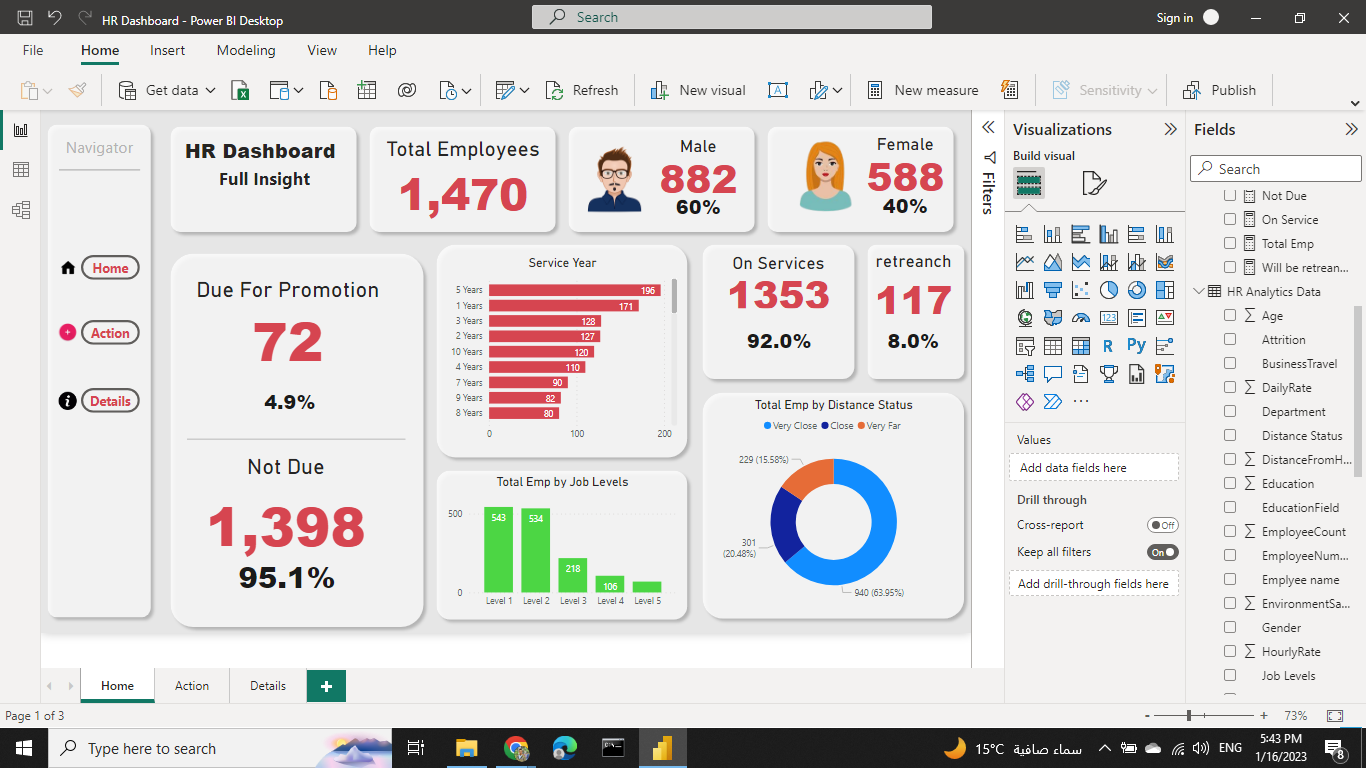

This screenshot's page, from the dashboard's own definition file:
{"tool":"powerbi","page":{"name":"Home","canvas":[1280,720],"ordinal":0},"visuals":[{"type":"shape","box":[169.7,13.4,273.8,162.9],"z":0},{"type":"shape","box":[443.5,13.4,273.8,162.9],"z":1000},{"type":"shape","box":[717.3,13.4,273.8,162.9],"z":2000},{"type":"shape","box":[991.1,13.4,273.8,162.9],"z":3000},{"type":"shape","box":[169.7,188.1,366.2,532.5],"z":4000},{"type":"shape","box":[535.9,176.4,362.8,310.8],"z":5000},{"type":"shape","box":[535.9,487.1,362.8,223.4],"z":6000},{"type":"shape","box":[902,176.4,226.8,203.3],"z":7000},{"type":"shape","box":[1128.8,176.4,151.2,203.3],"z":8000},{"type":"shape","box":[902,379.6,378,329.2],"z":9000},{"type":"textbox","box":[193.2,31.9,228.5,48.7],"z":10000},{"type":"textbox","box":[226.8,72.2,161.3,47],"z":11000},{"type":"card","title":"Total Employees","fields":{"Values":["All Measures.Total Emp"]},"box":[467,35.3,228.5,119.3],"z":12000},{"type":"card","title":"Male","fields":{"Values":["All Measures.Male"]},"box":[841.6,35.3,127.7,84],"z":13000},{"type":"card","title":"Male","fields":{"Values":["All Measures.% Male"]},"box":[841.6,92.4,127.7,84],"z":14000},{"type":"card","title":"Female","fields":{"Values":["All Measures.Female"]},"box":[1125.4,33.5,127.7,84],"z":15000},{"type":"card","title":"Male","fields":{"Values":["All Measures.% Female"]},"box":[1125.4,90.6,127.7,84],"z":16000},{"type":"image","box":[735.7,38.6,105.8,112.5],"z":17000},{"type":"image","box":[1016.3,25.2,127.7,132.7],"z":18000},{"type":"card","title":"Due For Promotion","fields":{"Values":["All Measures.Due For Promotion"]},"box":[208.3,230.1,263.7,131],"z":19000},{"type":"card","title":"Male","fields":{"Values":["All Measures.% Due For Promotion"]},"box":[265,360,154.5,83.6],"z":20000},{"type":"card","title":"Not Due","fields":{"Values":["All Measures.Not Due"]},"box":[208.3,473.7,258.7,152.9],"z":21000},{"type":"card","title":"Male","fields":{"Values":["All Measures.% Not Due"]},"box":[255.3,599.7,164.6,84],"z":22000},{"type":"shape","box":[201.6,443.5,300.7,20.2],"z":23000},{"type":"barChart","title":"Service Year","fields":{"Category":["HR Analytics Data.Service Year"],"Y":["All Measures.Total Emp"]},"box":[554.3,199.9,325.9,263.7],"z":24000},{"type":"columnChart","fields":{"Category":["HR Analytics Data.Job Levels "],"Y":["All Measures.Total Emp"]},"box":[554.3,500.6,325.9,193.2],"z":25000},{"type":"card","title":"On Services","fields":{"Values":["All Measures.On Service"]},"box":[918.4,197,194.2,80.8],"z":26000},{"type":"card","title":"Male","fields":{"Values":["All Measures.% On Services"]},"box":[952.4,276.4,127.6,83.6],"z":27000},{"type":"card","title":"retreanch","fields":{"Values":["All Measures.Will be retreanched"]},"box":[1125.4,194.2,150.2,102],"z":28000},{"type":"card","title":"Male","fields":{"Values":["All Measures.% Will be retreanched"]},"box":[1136.7,276.4,127.6,83.6],"z":29000},{"type":"donutChart","fields":{"Category":["HR Analytics Data.Distance Status"],"Y":["All Measures.Total Emp"]},"box":[918.4,395.4,345.8,296.2],"z":30000},{"type":"shape","box":[0,11.3,160.2,695.9],"z":31000},{"type":"actionButton","box":[55.3,199.8,80.8,34],"z":32000},{"type":"textbox","box":[28.3,31.2,119.1,49.6],"z":33000},{"type":"shape","box":[24.1,45.4,112,73.7],"z":34000},{"type":"actionButton","box":[55.3,289.1,80.8,34],"z":35000},{"type":"actionButton","box":[55.3,382.7,80.8,34],"z":36000},{"type":"image","box":[19.8,199.8,35.4,34],"z":37000},{"type":"image","box":[19.8,282,35.4,46.8],"z":38000},{"type":"image","box":[19.8,379.8,35.4,41.1],"z":39000}]}

Visuals, with their boxes on the page's 1280x720 design canvas (x1, y1, x2, y2). These are canvas units, not pixel positions in the 1366x768 screenshot, which may show the page scaled, cropped or inside an application window:
shape: 170, 13, 444, 176
shape: 444, 13, 717, 176
shape: 717, 13, 991, 176
shape: 991, 13, 1265, 176
shape: 170, 188, 536, 721
shape: 536, 176, 899, 487
shape: 536, 487, 899, 710
shape: 902, 176, 1129, 380
shape: 1129, 176, 1280, 380
shape: 902, 380, 1280, 709
textbox: 193, 32, 422, 81
textbox: 227, 72, 388, 119
"Total Employees" card: 467, 35, 696, 155
"Male" card: 842, 35, 969, 119
"Male" card: 842, 92, 969, 176
"Female" card: 1125, 34, 1253, 118
"Male" card: 1125, 91, 1253, 175
image: 736, 39, 842, 151
image: 1016, 25, 1144, 158
"Due For Promotion" card: 208, 230, 472, 361
"Male" card: 265, 360, 420, 444
"Not Due" card: 208, 474, 467, 627
"Male" card: 255, 600, 420, 684
shape: 202, 444, 502, 464
"Service Year" barChart: 554, 200, 880, 464
columnChart - HR Analytics Data.Job Levels  x All Measures.Total Emp: 554, 501, 880, 694
"On Services" card: 918, 197, 1113, 278
"Male" card: 952, 276, 1080, 360
"retreanch" card: 1125, 194, 1276, 296
"Male" card: 1137, 276, 1264, 360
donutChart - HR Analytics Data.Distance Status x All Measures.Total Emp: 918, 395, 1264, 692
shape: 0, 11, 160, 707
actionButton: 55, 200, 136, 234
textbox: 28, 31, 147, 81
shape: 24, 45, 136, 119
actionButton: 55, 289, 136, 323
actionButton: 55, 383, 136, 417
image: 20, 200, 55, 234
image: 20, 282, 55, 329
image: 20, 380, 55, 421
